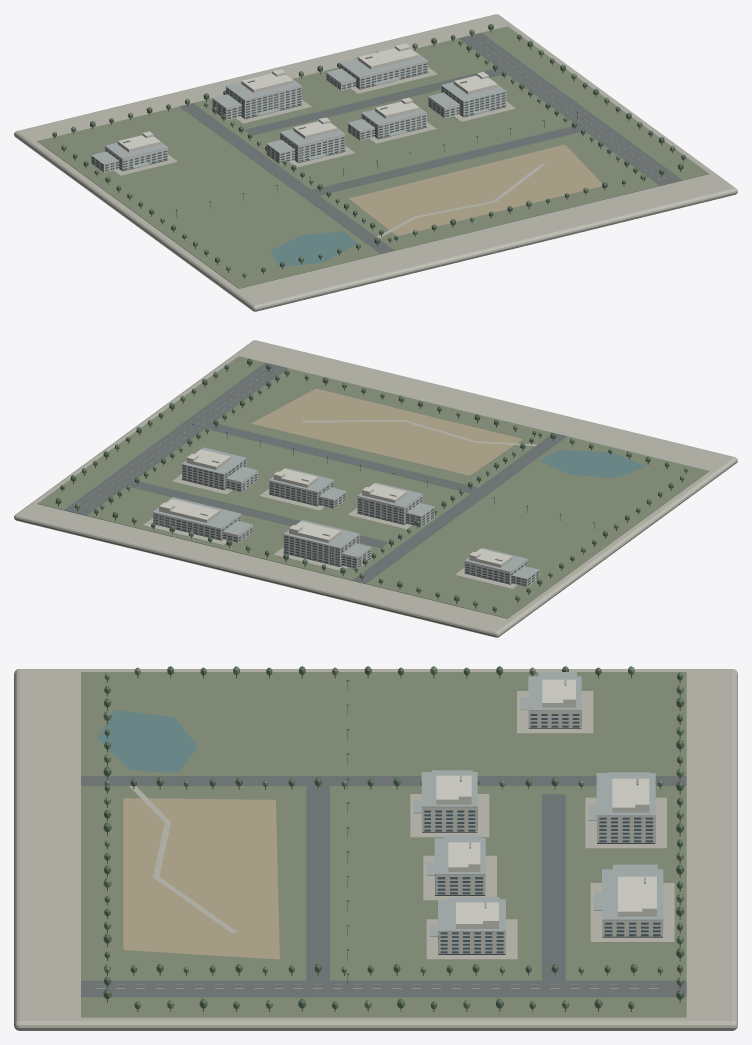
The picture shows the model from 3 angles, top to bottom: view 1: azimuth 30°, elevation 25°; view 2: azimuth 150°, elevation 25°; view 3: azimuth 270°, elevation 25°; orthographic projection. The views are drawn at different scales.
Visible parts, largest first — view 1: RD_terrain, RD_study_base, RD_bare_plot, RD_road, RD_road.001, RD_road.002, RD_pond, RD_road.003, RD_bg01, RD_m01, RD_bg02_setback, RD_bg02 (+12 smaller); view 2: RD_terrain, RD_study_base, RD_bare_plot, RD_road, RD_road.001, RD_road.002, RD_pond, RD_road.003, RD_bg01, RD_m01, RD_bg02, RD_bg02_setback (+12 smaller); view 3: RD_terrain, RD_study_base, RD_bare_plot, RD_road, RD_road.002, RD_road.003, RD_pond, RD_road.001, RD_bg02_roof_lip, RD_bg02_apron, RD_bg02_setback, RD_bg01_apron (+24 smaller).
Boxes of the visible parts, x1,y1,x2,y2 form: RD_terrain: [37, 26, 708, 288]; RD_study_base: [14, 14, 737, 311]; RD_bare_plot: [349, 144, 602, 235]; RD_road: [458, 33, 682, 185]; RD_road.001: [179, 103, 393, 253]; RD_road.002: [308, 124, 588, 196]; RD_pond: [270, 231, 356, 267]; RD_road.003: [245, 67, 509, 135]; RD_bg01: [226, 86, 301, 118]; RD_m01: [280, 133, 345, 162]; RD_bg02_setback: [358, 48, 418, 69]; RD_bg02: [339, 61, 427, 88]; RD_terrain: [37, 356, 708, 618]; RD_study_base: [14, 340, 737, 637]; RD_bare_plot: [251, 388, 522, 475]; RD_road: [64, 362, 287, 515]; RD_road.001: [352, 433, 567, 583]; RD_road.002: [202, 422, 481, 494]; RD_pond: [539, 450, 645, 478]; RD_road.003: [123, 479, 388, 547]; RD_bg01: [283, 534, 359, 566]; RD_m01: [357, 494, 422, 524]; RD_bg02: [153, 512, 241, 539]; RD_bg02_setback: [159, 499, 219, 522]; RD_terrain: [81, 672, 686, 1017]; RD_study_base: [14, 669, 737, 1030]; RD_bare_plot: [123, 798, 279, 959]; RD_road: [81, 980, 686, 997]; RD_road.002: [306, 783, 329, 983]; RD_road.003: [542, 794, 565, 983]; RD_pond: [97, 709, 197, 772]; RD_road.001: [81, 776, 686, 785]; RD_bg02_roof_lip: [602, 869, 663, 920]; RD_bg02_apron: [590, 883, 674, 942]; RD_bg02_setback: [618, 876, 656, 916]; RD_bg01_apron: [585, 797, 666, 848].
Size of the model in its own units: 640 by 39.6 by 550.
